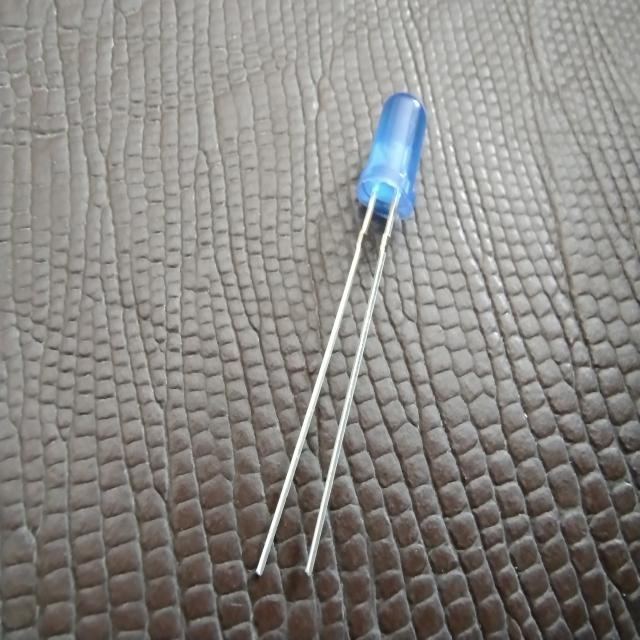blue_led: (356, 91, 428, 221)
